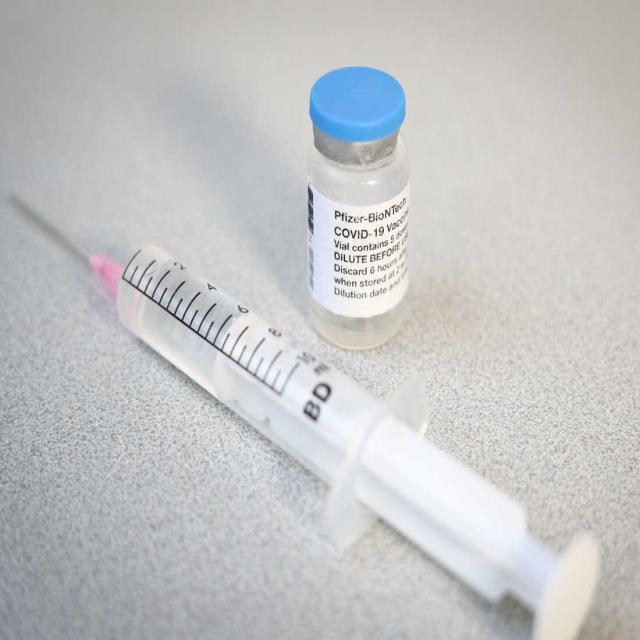B3: (1, 186, 614, 640), (297, 54, 420, 348)
